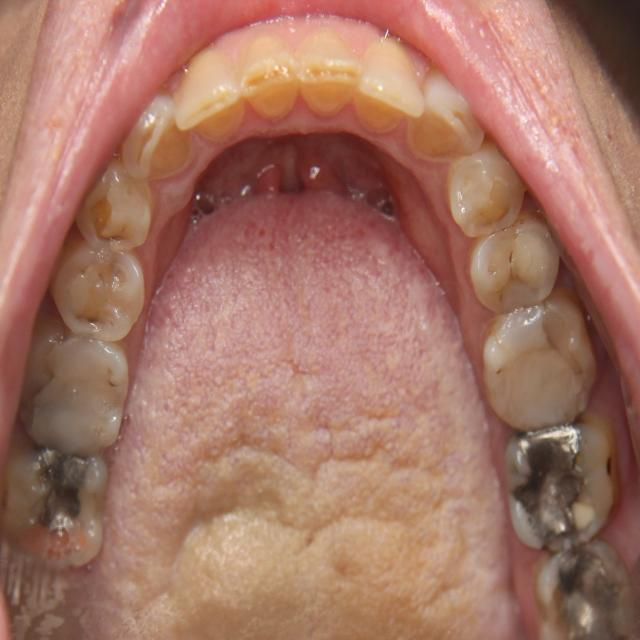tooth: (493, 422, 628, 559), (475, 300, 602, 437), (19, 314, 137, 459), (1, 437, 117, 575), (512, 533, 637, 638), (458, 210, 569, 325), (43, 232, 151, 345), (402, 61, 488, 181), (67, 153, 163, 259), (346, 25, 425, 150), (434, 140, 528, 243), (165, 41, 251, 152), (288, 15, 367, 126), (113, 87, 195, 184), (235, 25, 311, 129)
